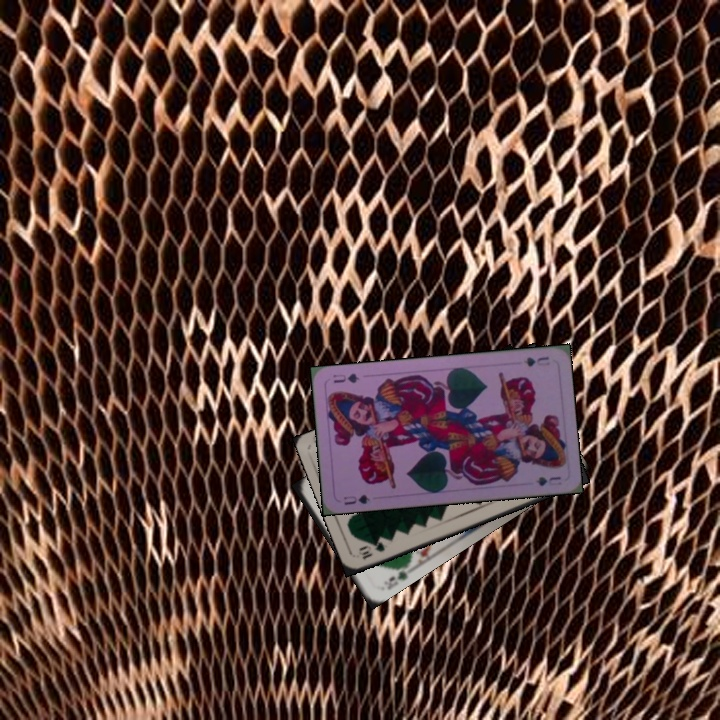G10: (354, 538, 388, 562)
GK: (383, 562, 410, 593)
GU: (340, 490, 372, 508), (520, 353, 552, 369)
